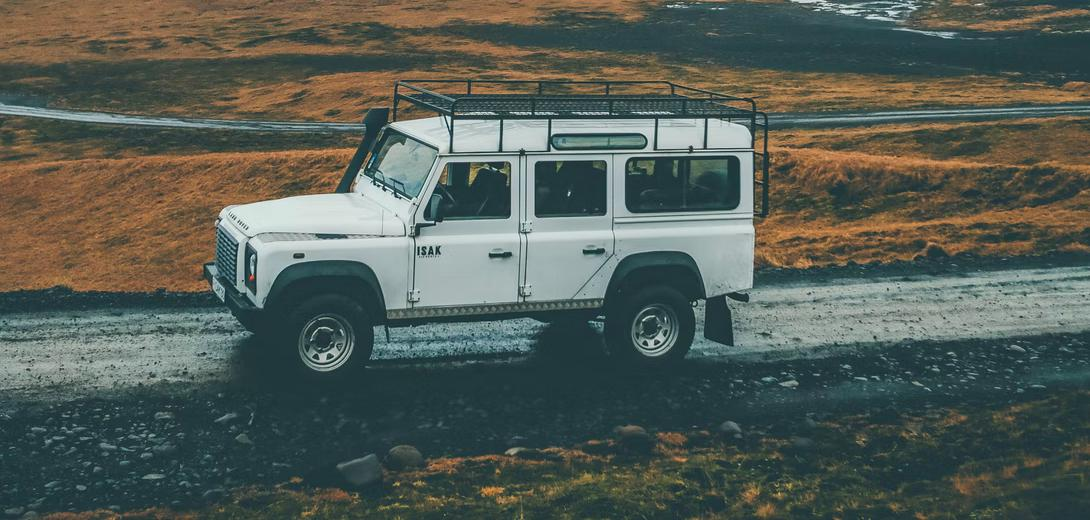car: (180, 63, 776, 401)
